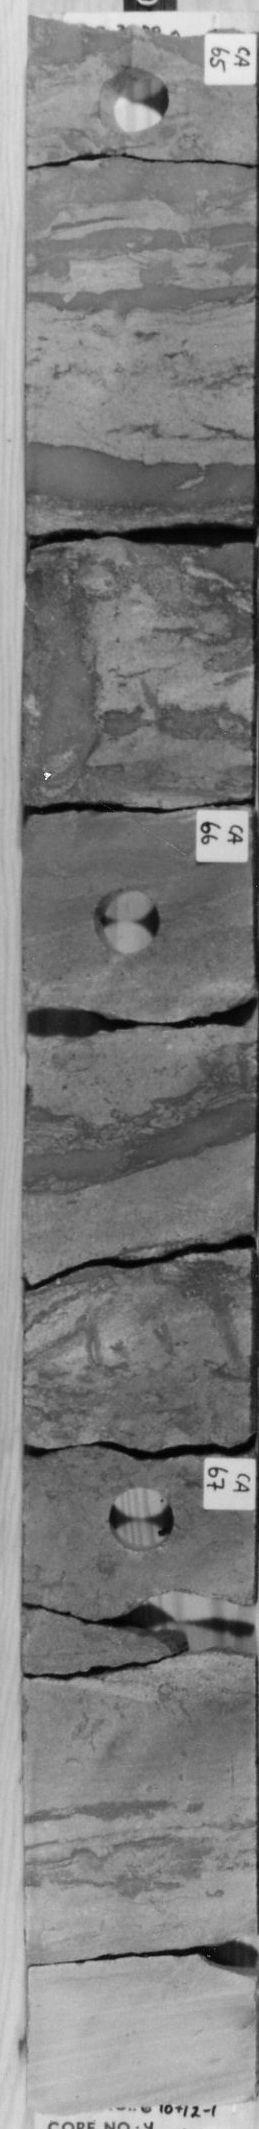hplug: (94, 1472, 187, 1561), (87, 61, 180, 144), (89, 872, 170, 963)
